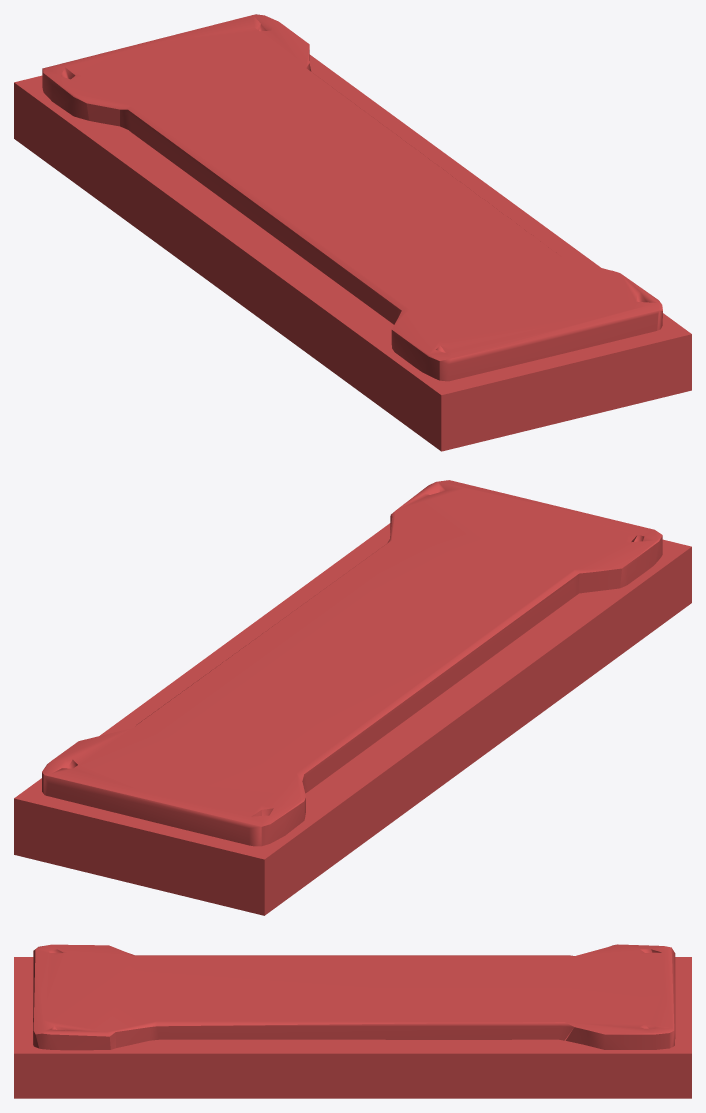
The model's file is Final_ComplexWall_3x1_02.FBX.
The picture shows the model from 3 angles, top to bottom: view 1: azimuth 30°, elevation 25°; view 2: azimuth 150°, elevation 25°; view 3: azimuth 270°, elevation 25°; orthographic projection. The views are drawn at different scales.
Visible parts, largest first — view 1: Final_ComplexWall_3x1_02; view 2: Final_ComplexWall_3x1_02; view 3: Final_ComplexWall_3x1_02.
Boxes of the visible parts, left/top/right/bottom form: Final_ComplexWall_3x1_02: left=14, top=14, right=691, bottom=451; Final_ComplexWall_3x1_02: left=14, top=480, right=691, bottom=915; Final_ComplexWall_3x1_02: left=14, top=944, right=691, bottom=1098.
Bounding box in the file's own units: 102 × 300 × 30.06.
